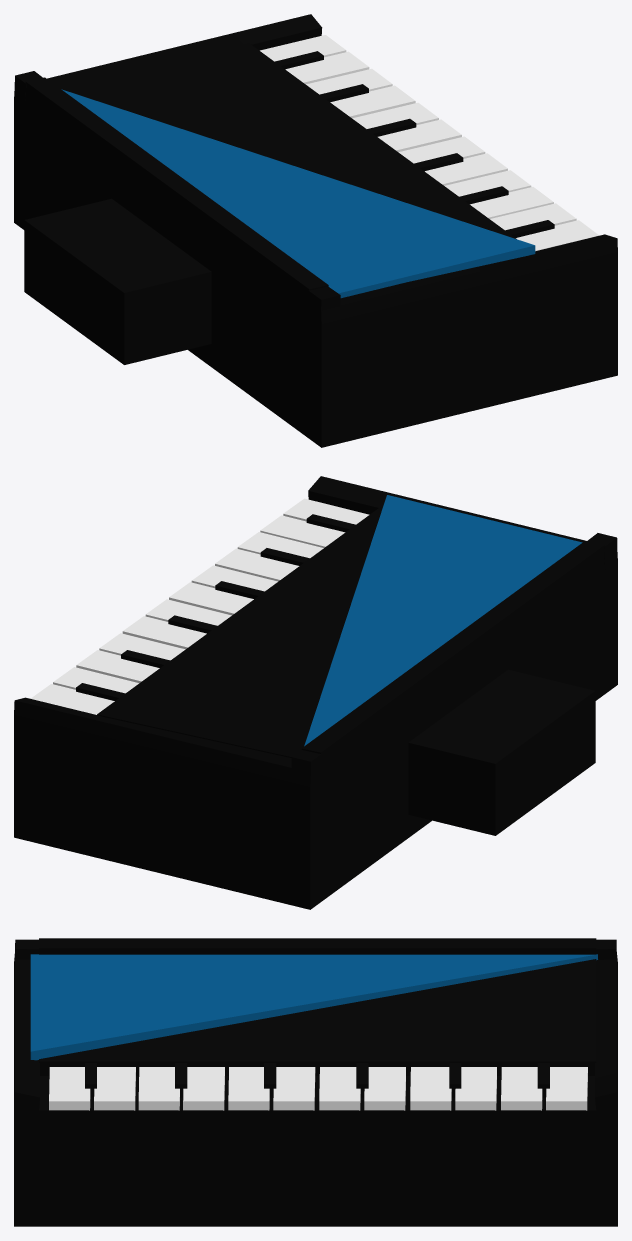
File: Blueshooter.fbx
3 renders of one model, top to bottom at view 1: azimuth 30°, elevation 25°; view 2: azimuth 150°, elevation 25°; view 3: azimuth 270°, elevation 25°, orthographic.
Parts seen in each view (by area): view 1: Box001, Box021, Box002, Box011, Box009, Box013, Box007, Box005, Box003, Box008, Box004, Box014 (+3 smaller); view 2: Box001, Box021, Box002, Box008, Box010, Box004, Box006, Box012, Box014, Box011, Box009, Box013 (+3 smaller); view 3: Box001, Box021, Box011, Box008, Box004, Box006, Box014, Box010, Box009, Box013, Box012, Box003 (+2 smaller).
Boxes of the visible parts, x1,y1,x2,y2 form: Box001: (14,14,617,447); Box021: (61,89,535,298); Box002: (24,198,211,364); Box011: (330,85,415,118); Box009: (378,119,461,152); Box013: (285,51,369,84); Box007: (425,153,507,185); Box005: (470,187,553,218); Box003: (516,220,598,251); Box008: (398,136,485,163); Box004: (490,203,576,230); Box014: (260,35,346,61); Box001: (14,476,617,909); Box021: (304,495,582,746); Box002: (408,669,595,835); Box008: (169,582,253,615); Box010: (122,616,206,649); Box004: (260,515,345,547); Box006: (215,548,299,581); Box012: (76,650,159,683); Box014: (30,684,114,714); Box011: (99,633,185,660); Box009: (145,599,231,625); Box013: (53,667,138,693); Box001: (14,938,617,1226); Box021: (30,954,597,1060); Box011: (410,1067,451,1110); Box008: (273,1067,315,1110); Box004: (94,1067,135,1110); Box006: (183,1067,224,1110); Box014: (546,1067,587,1110); Box010: (364,1067,405,1110); Box009: (319,1067,360,1110); Box013: (501,1067,542,1110); Box012: (455,1067,496,1110); Box003: (49,1067,90,1110).
Bounding box in the file's own units: 35.21 × 13.06 × 48.86.
